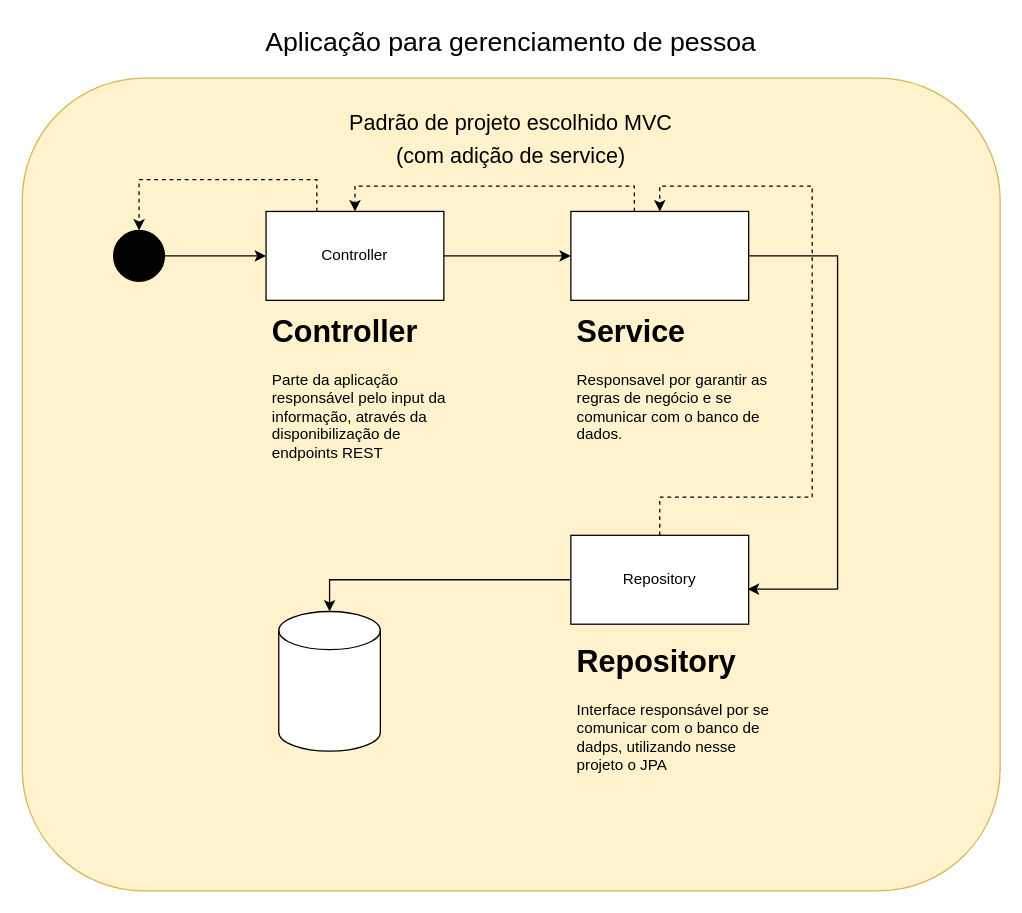
Image size: 1022x913. Some labels were removed from this diagram. Each missing label, with the centre of its shape:
H2: point (328, 680)
Service: point (659, 255)
